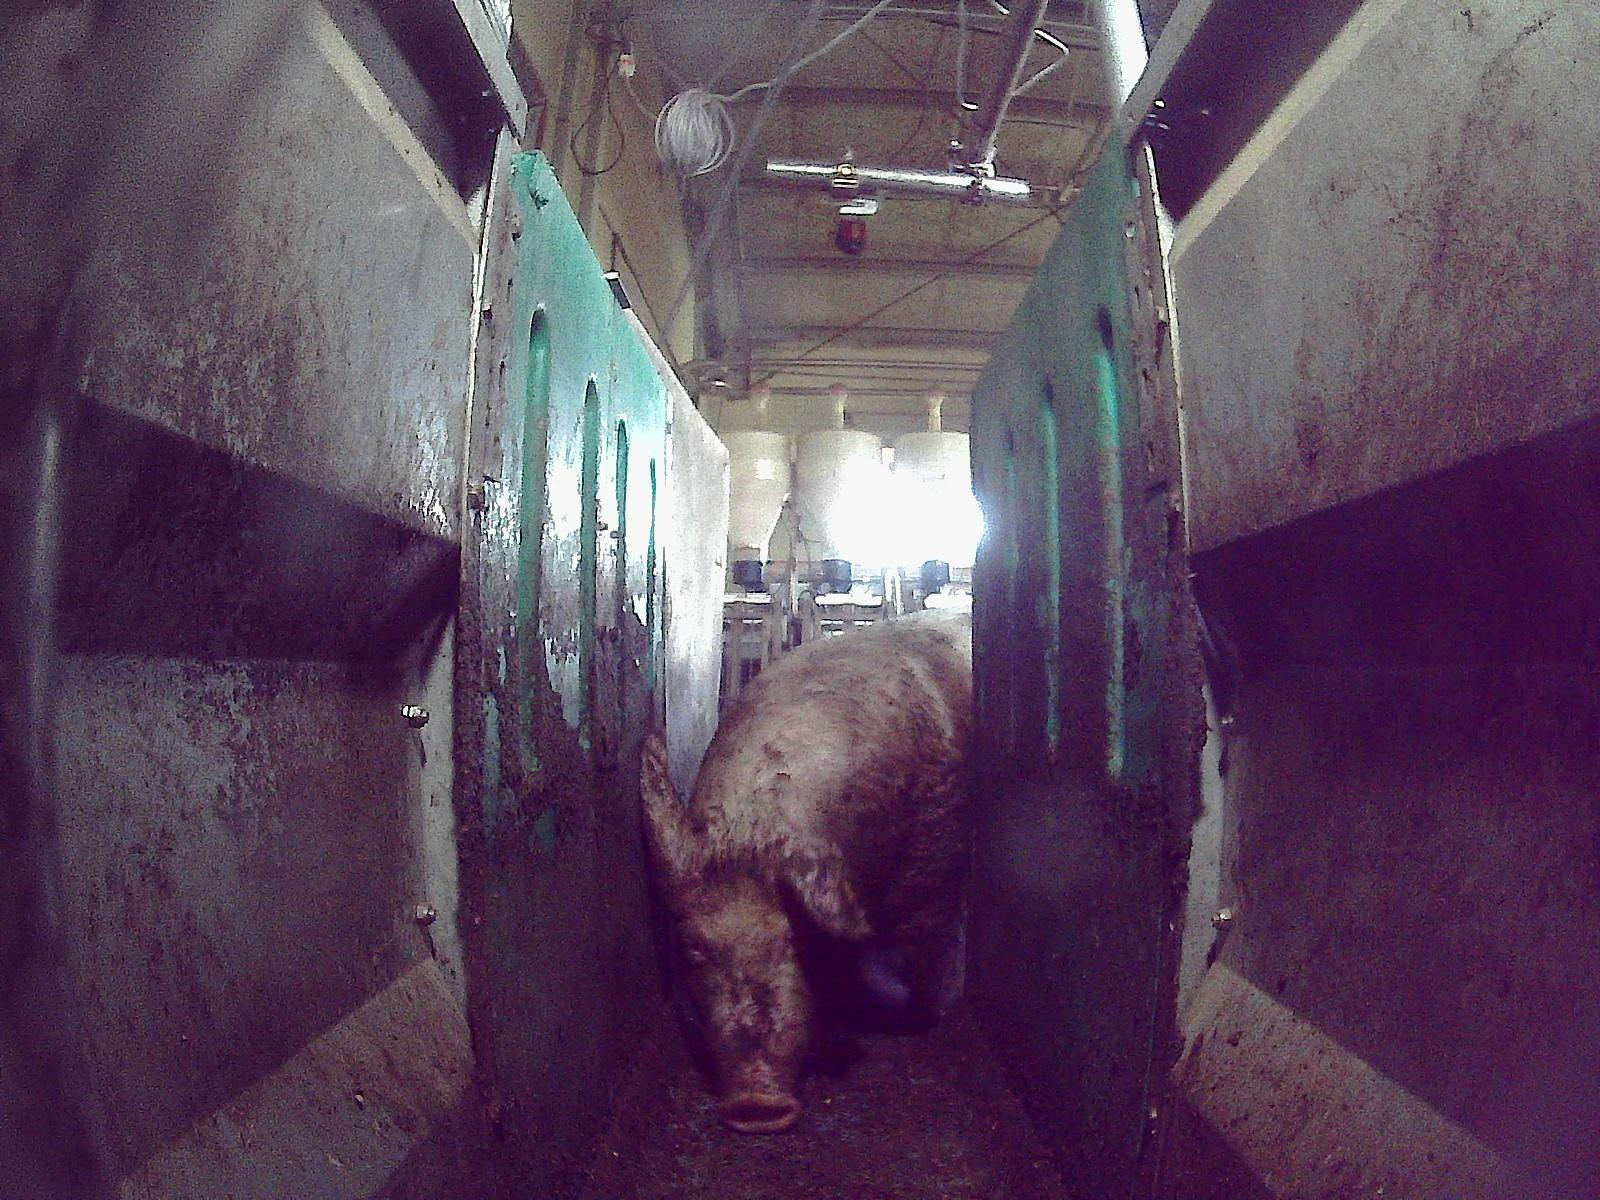Face: (665, 835, 839, 1130)
